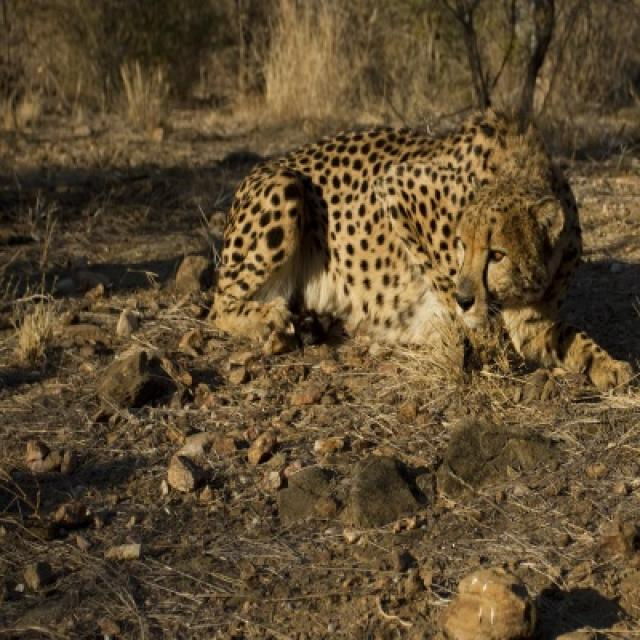Cheetah: (211, 109, 582, 365)
